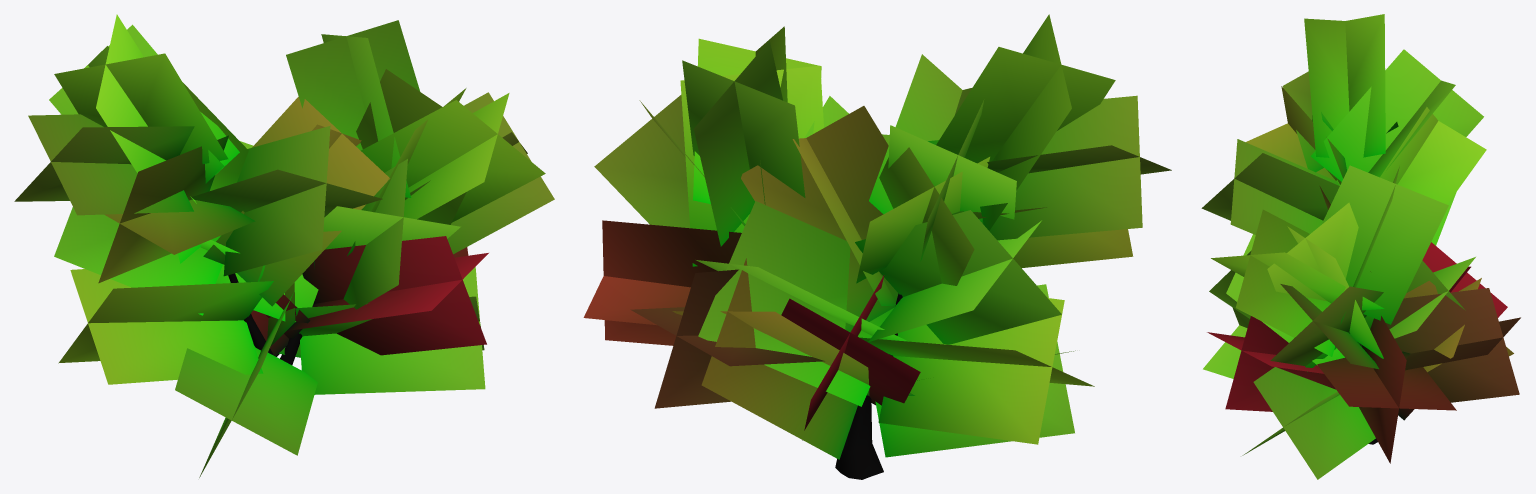
File: S_Tree_12_7.fbx
3 renders of one model, left to right at view 1: azimuth 30°, elevation 25°; view 2: azimuth 150°, elevation 25°; view 3: azimuth 270°, elevation 25°, orthographic. The views are drawn at different scales.
Visible parts, largest first — view 1: S_Tree_12_7; view 2: S_Tree_12_7; view 3: S_Tree_12_7.
Part boxes in pixels (x1,y1,x2,y2): S_Tree_12_7: [14, 14, 554, 477]; S_Tree_12_7: [583, 14, 1171, 479]; S_Tree_12_7: [1201, 14, 1520, 479].
Bounding box in the file's own units: 2029 × 1638 × 1300.
